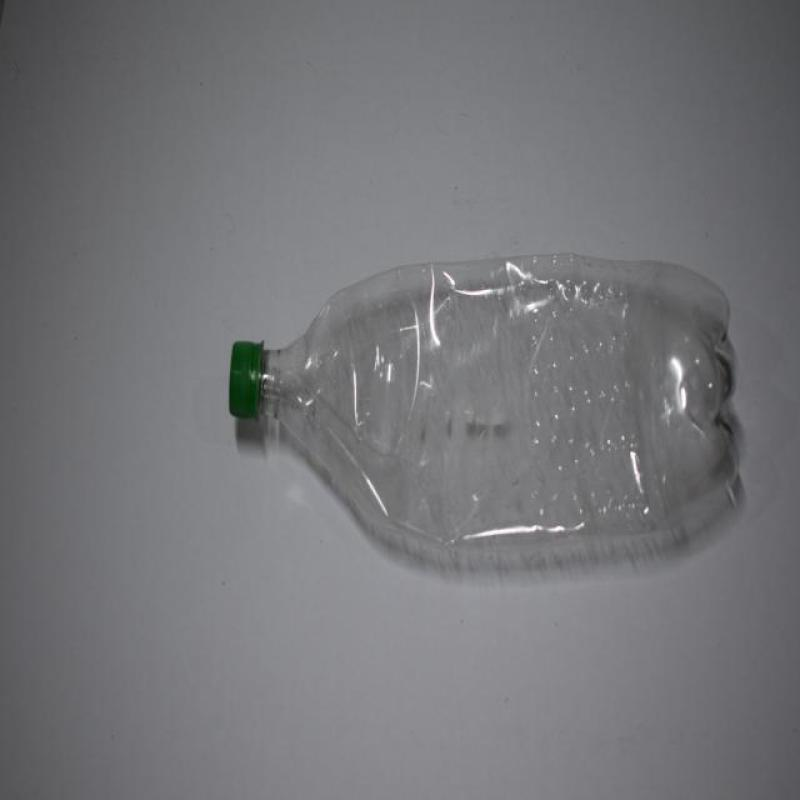botella: (231, 257, 742, 574)
